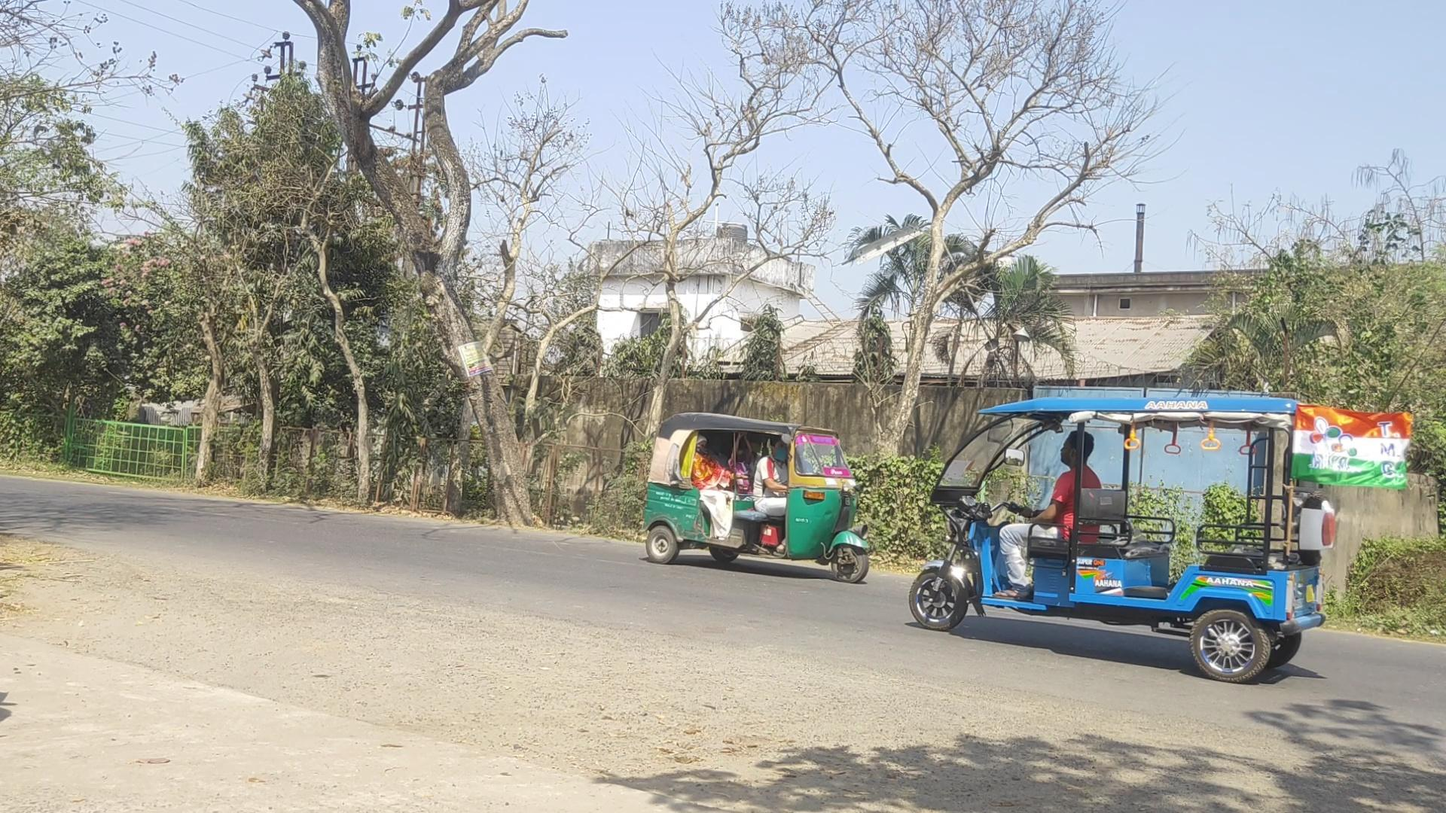Auto: (908, 397, 1335, 684), (644, 413, 870, 583)
